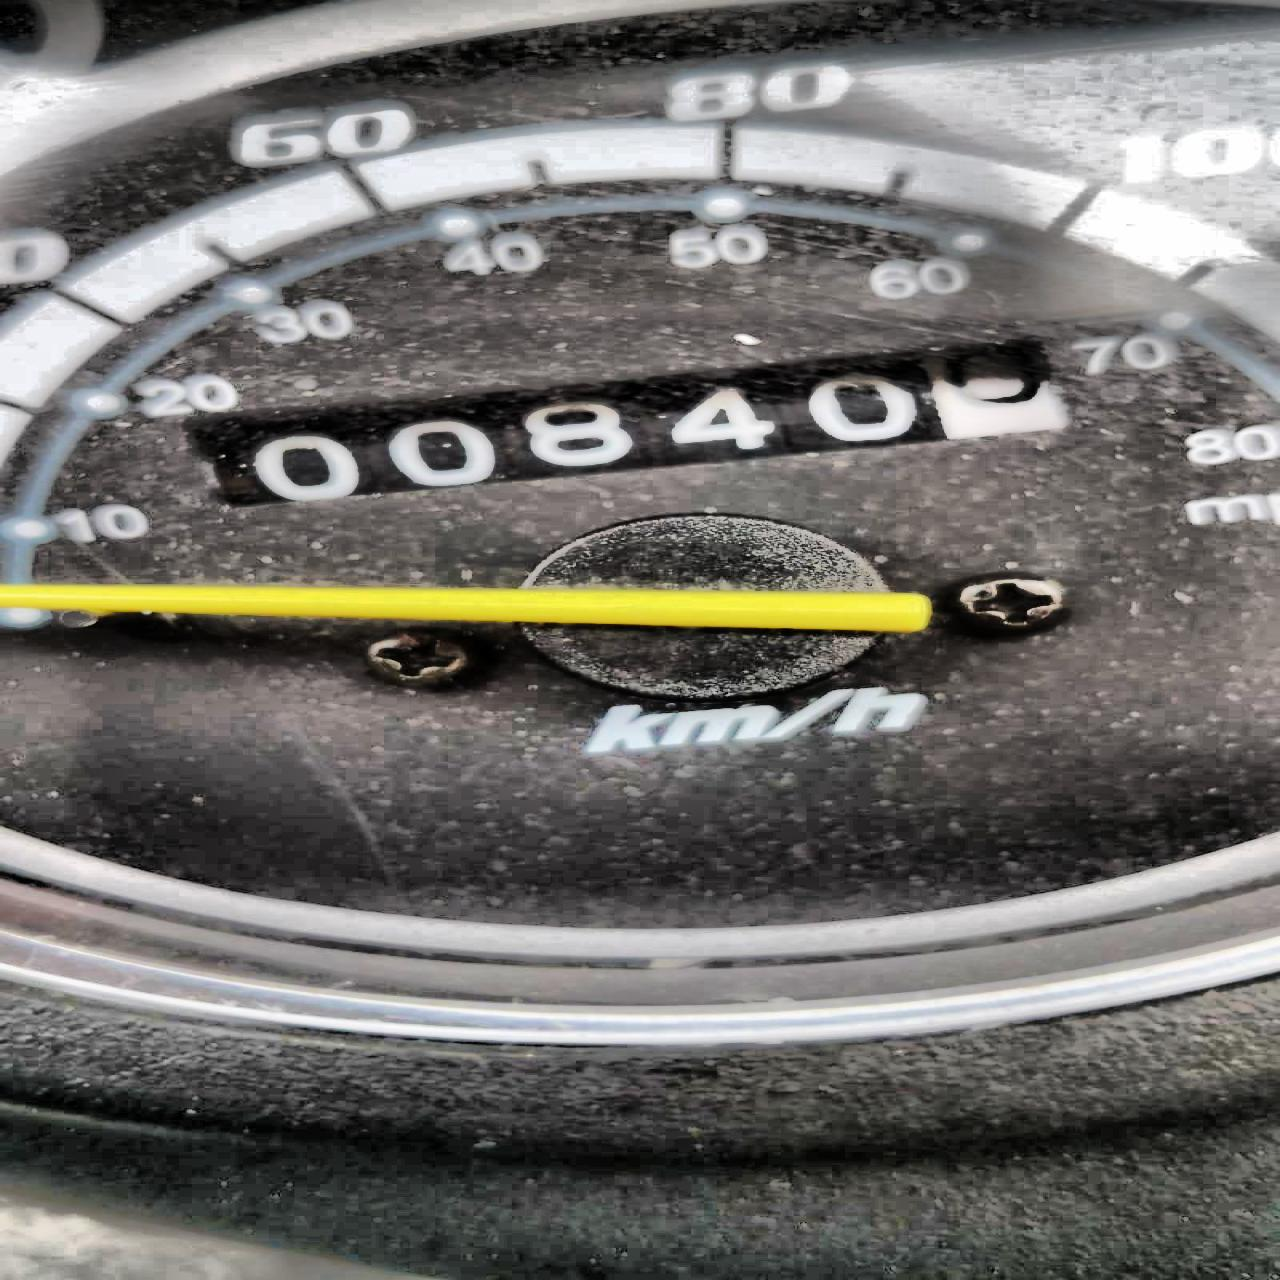0: (792, 372, 921, 449), (236, 430, 367, 502), (380, 415, 503, 490), (937, 342, 1057, 413), (184, 372, 241, 411)
4: (666, 380, 781, 459)
8: (517, 393, 635, 474)
odometer: (181, 335, 1077, 510)
